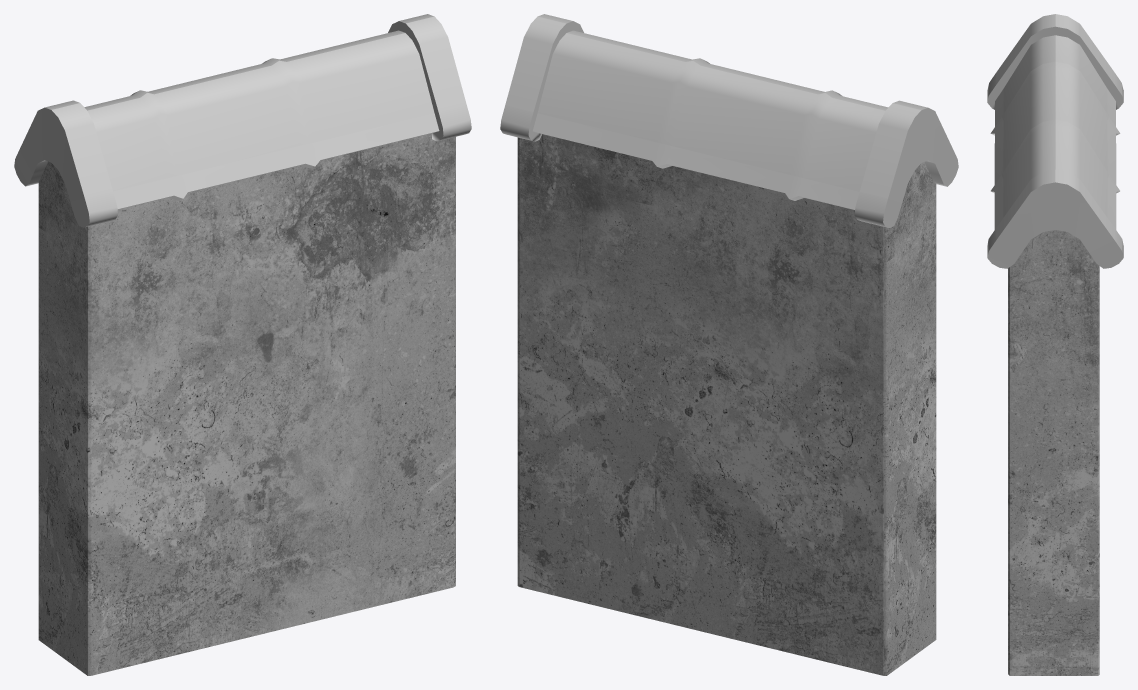
File: SM_ButtressPier_01a.fbx
3 renders of one model, left to right at view 1: azimuth 30°, elevation 25°; view 2: azimuth 150°, elevation 25°; view 3: azimuth 270°, elevation 25°, orthographic. The views are drawn at different scales.
Visible parts, largest first — view 1: SM_ButtressPier_01a_LOD0; view 2: SM_ButtressPier_01a_LOD0; view 3: SM_ButtressPier_01a_LOD0.
Part boxes in pixels (<box>): SM_ButtressPier_01a_LOD0: <box>14,14,471,675</box>; SM_ButtressPier_01a_LOD0: <box>500,14,958,675</box>; SM_ButtressPier_01a_LOD0: <box>987,14,1123,675</box>.
Size of the model in its own units: 231 by 79.08 by 317.
